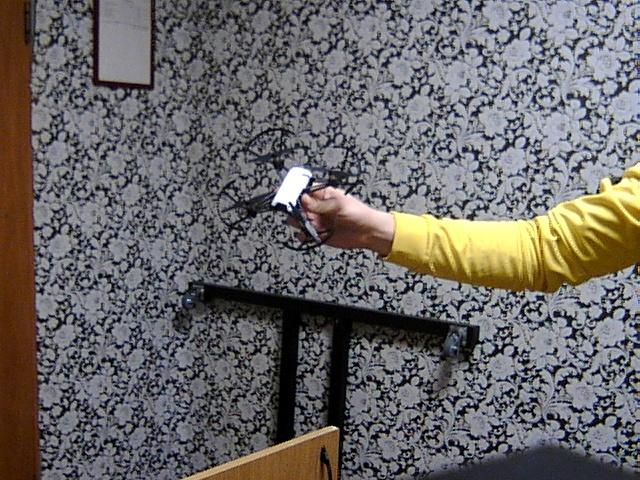drone: (215, 122, 372, 255)
